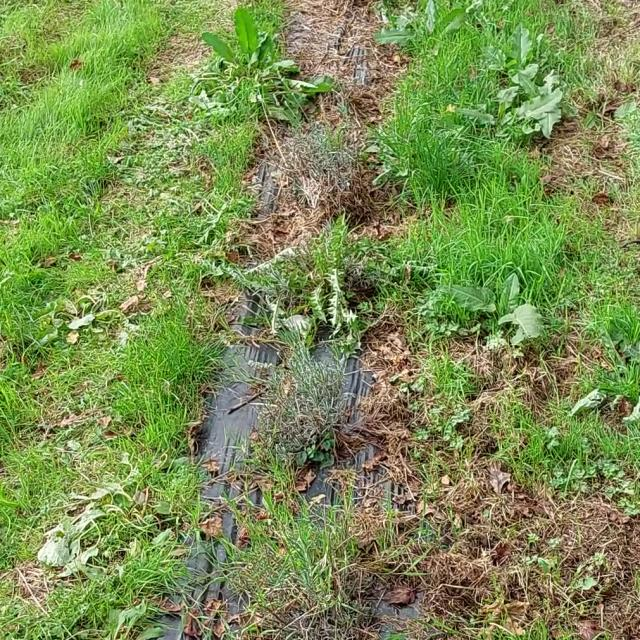organic waste: (438, 264, 569, 370), (200, 4, 312, 108), (37, 480, 162, 569), (488, 60, 596, 143), (376, 0, 480, 73), (45, 283, 134, 343), (462, 72, 523, 134)
